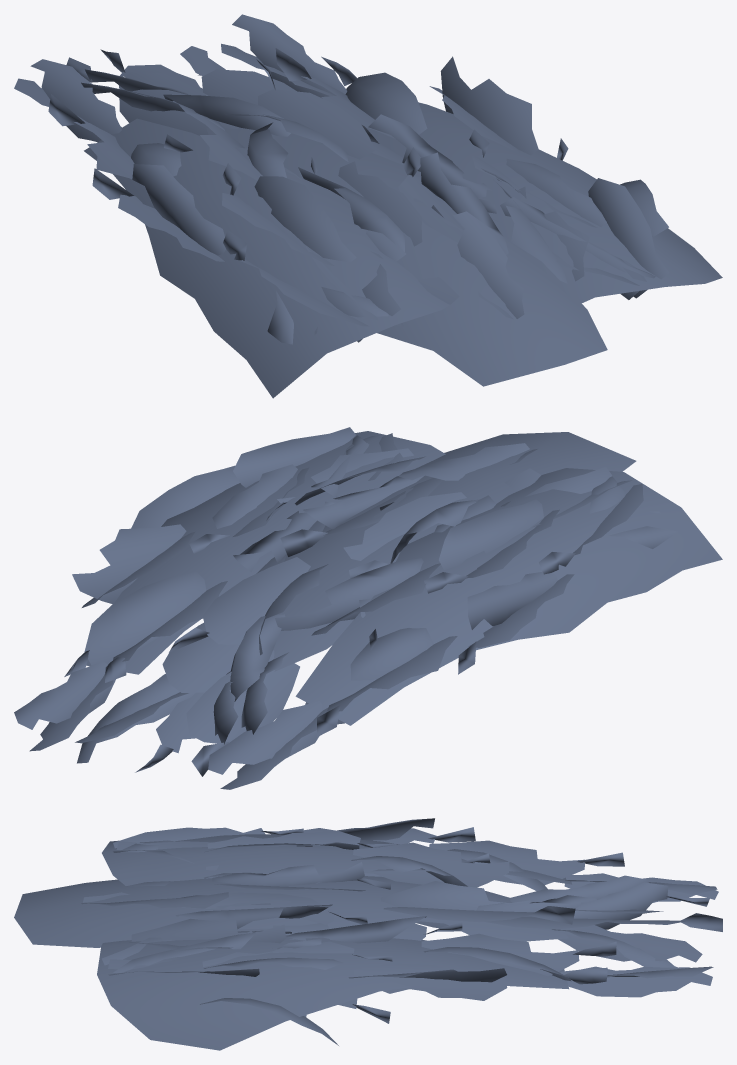
3 views of the same model, one above another, from view 1: azimuth 30°, elevation 25°; view 2: azimuth 150°, elevation 25°; view 3: azimuth 270°, elevation 25° (orthographic). The views are drawn at different scales.
Parts seen in each view (by area): view 1: SM_GF_Cliff_Top_03_LOD0; view 2: SM_GF_Cliff_Top_03_LOD0; view 3: SM_GF_Cliff_Top_03_LOD0.
Boxes of the visible parts, x1,y1,x2,y2 form: SM_GF_Cliff_Top_03_LOD0: (14, 14, 722, 398); SM_GF_Cliff_Top_03_LOD0: (14, 427, 722, 789); SM_GF_Cliff_Top_03_LOD0: (14, 818, 722, 1050).
Size of the model in its own units: 2.19 by 0.461 by 3.5.
